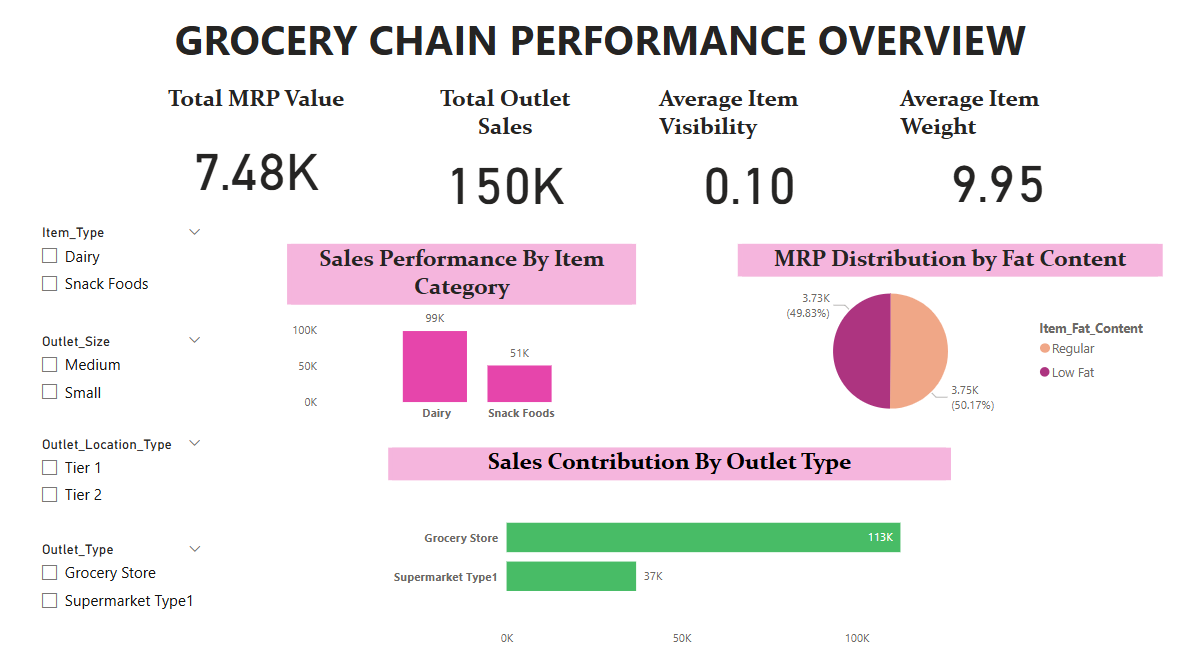

Layout of this report page (visuals, bound fields, positions):
{"tool":"powerbi","page":{"name":"Page 3","canvas":[1280,720],"ordinal":0},"visuals":[{"type":"card","title":"Total Outlet Sales","fields":{"Values":["Sum(GROCERY SALES CSV CLEANED.Item_Outlet_Sales)"]},"box":[431.7,99.5,208.9,141.3],"z":0},{"type":"card","title":"Total MRP Value","fields":{"Values":["Sum(GROCERY SALES CSV CLEANED.Item_MRP)"]},"box":[167.1,99.5,210.9,141.3],"z":1000},{"type":"card","title":"Average Item Visibility","fields":{"Values":["Avg(GROCERY SALES CSV CLEANED.Item_Visibility)"]},"box":[692.3,99.5,200.9,141.3],"z":2000},{"type":"card","title":"Average Item Weight","fields":{"Values":["Avg(GROCERY SALES CSV CLEANED.Item_Weight)"]},"box":[947,99.5,216.9,137.3],"z":3000},{"type":"columnChart","title":"Sales Performance By Item Category","fields":{"Category":["GROCERY SALES CSV CLEANED.Item_Type"],"Y":["Sum(GROCERY SALES CSV CLEANED.Item_Outlet_Sales)"]},"box":[306.4,266.6,368.1,197],"z":4000},{"type":"barChart","title":"Sales Contribution By Outlet Type","fields":{"Category":["GROCERY SALES CSV CLEANED.Outlet_Type"],"Y":["Sum(GROCERY SALES CSV CLEANED.Item_Outlet_Sales)"]},"box":[431.7,481.4,592.9,218.8],"z":5000},{"type":"pieChart","title":"MRP Distribution by Fat Content","fields":{"Category":["GROCERY SALES CSV CLEANED.Item_Fat_Content"],"Y":["Sum(GROCERY SALES CSV CLEANED.Item_MRP)"]},"box":[779.9,266.6,447.6,197],"z":6000},{"type":"slicer","fields":{"Values":["GROCERY SALES CSV CLEANED.Item_Type"]},"box":[34.5,241.4,192.8,103.4],"z":8000},{"type":"slicer","fields":{"Values":["GROCERY SALES CSV CLEANED.Outlet_Location_Type"]},"box":[34.5,463.9,192.8,95.6],"z":10000},{"type":"slicer","fields":{"Values":["GROCERY SALES CSV CLEANED.Outlet_Size"]},"box":[34.5,355.8,192.8,94],"z":11000},{"type":"slicer","fields":{"Values":["GROCERY SALES CSV CLEANED.Outlet_Type"]},"box":[33.8,575,193,125.3],"z":12000},{"type":"textbox","box":[0,17.9,1279.2,63.7],"z":13000}]}

Visuals, with their boxes in screenshot pixels (x1, y1, x2, y2), scaled from the page's 1280x720 canvas onto the 1192x666 screenshot:
"Total Outlet Sales" card: <bbox>402, 92, 597, 223</bbox>
"Total MRP Value" card: <bbox>156, 92, 352, 223</bbox>
"Average Item Visibility" card: <bbox>645, 92, 832, 223</bbox>
"Average Item Weight" card: <bbox>882, 92, 1084, 219</bbox>
"Sales Performance By Item Category" columnChart: <bbox>285, 247, 628, 429</bbox>
"Sales Contribution By Outlet Type" barChart: <bbox>402, 445, 954, 648</bbox>
"MRP Distribution by Fat Content" pieChart: <bbox>726, 247, 1143, 429</bbox>
slicer - GROCERY SALES CSV CLEANED.Item_Type: <bbox>32, 223, 212, 319</bbox>
slicer - GROCERY SALES CSV CLEANED.Outlet_Location_Type: <bbox>32, 429, 212, 518</bbox>
slicer - GROCERY SALES CSV CLEANED.Outlet_Size: <bbox>32, 329, 212, 416</bbox>
slicer - GROCERY SALES CSV CLEANED.Outlet_Type: <bbox>31, 532, 211, 648</bbox>
textbox: <bbox>0, 17, 1191, 75</bbox>
